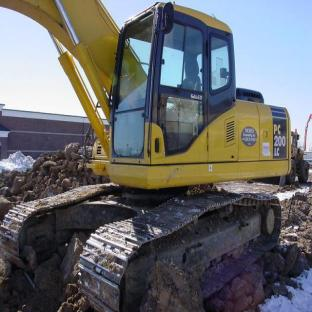ExcavationMachinery: (41, 0, 281, 261)
